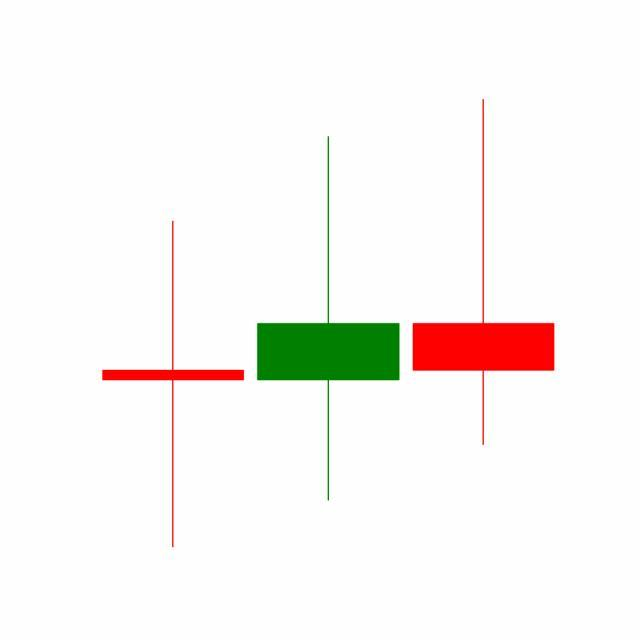Spinning Top: (250, 133, 407, 506)
